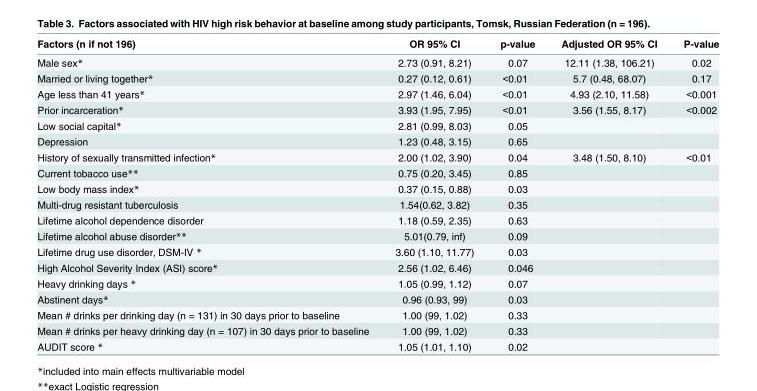table: (36, 37, 718, 352)
table column: (36, 37, 381, 352), (547, 37, 669, 352), (381, 37, 486, 352), (486, 37, 547, 352), (669, 37, 718, 352)
table column header: (36, 37, 718, 52)
table row: (36, 52, 718, 70), (36, 85, 718, 101), (36, 101, 718, 117), (36, 117, 718, 133), (36, 148, 718, 164), (36, 164, 718, 180), (36, 180, 718, 196), (36, 196, 718, 212), (36, 227, 718, 243), (36, 243, 718, 259), (36, 259, 718, 275), (36, 275, 718, 291), (36, 306, 718, 322), (36, 322, 718, 338), (36, 37, 718, 52), (36, 70, 718, 85), (36, 133, 718, 148), (36, 212, 718, 227), (36, 291, 718, 306), (36, 338, 718, 352)
